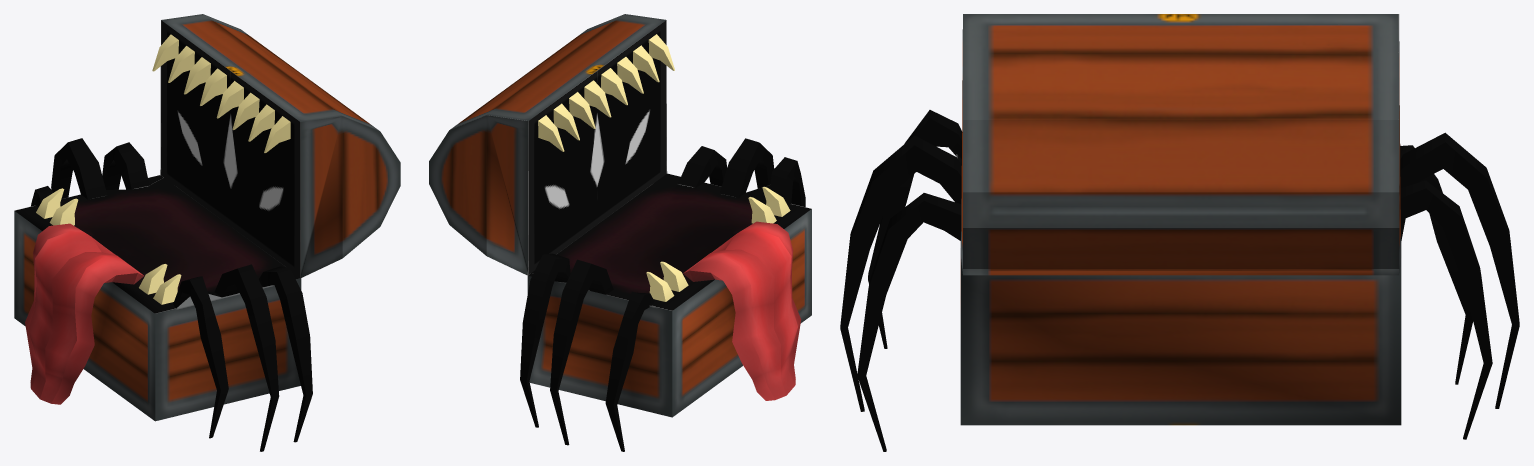
Rendered from cofrearana_000025.obj.
The picture shows the model from 3 angles, left to right: view 1: azimuth 30°, elevation 25°; view 2: azimuth 150°, elevation 25°; view 3: azimuth 270°, elevation 25°; orthographic projection. The views are drawn at different scales.
Visible parts, largest first — view 1: cofreArana:Mesh; view 2: cofreArana:Mesh; view 3: cofreArana:Mesh.
Part boxes in pixels (<box>): cofreArana:Mesh: <box>14,14,400,451</box>; cofreArana:Mesh: <box>429,14,811,451</box>; cofreArana:Mesh: <box>840,14,1519,451</box>.
Size of the model in its own units: 7.55 by 7.3 by 9.77.
